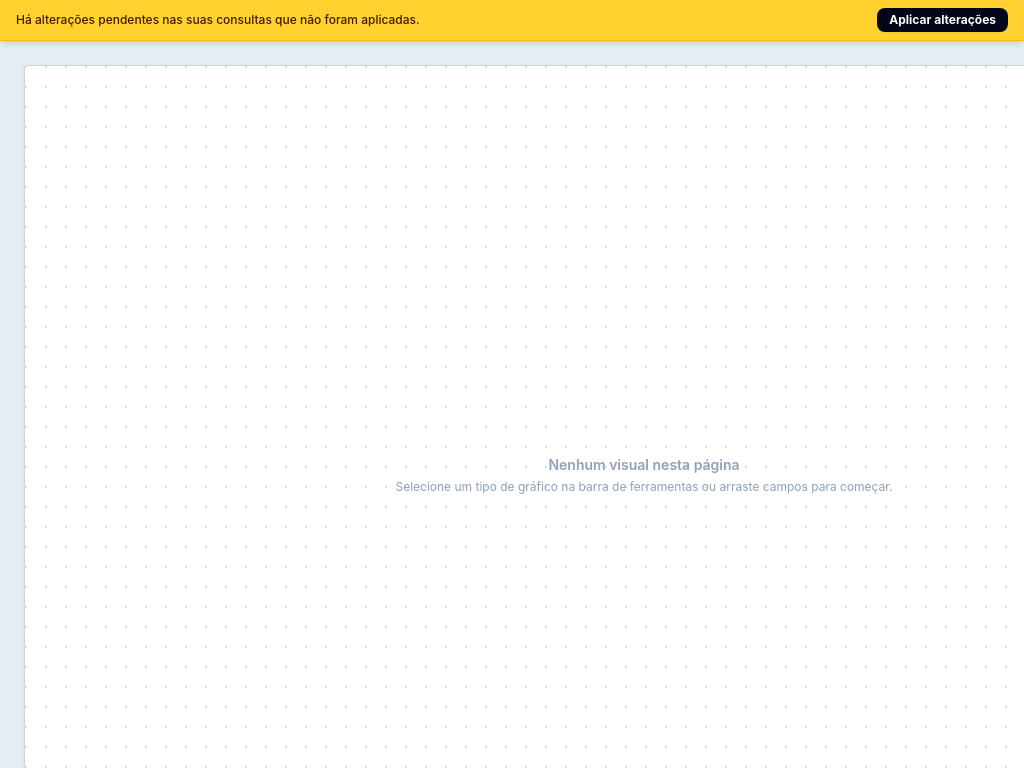
Scenario: <ReportView /> pending Power Query changes bar › clicking "Aplicar alterações" applies the dirty query and the bar disappears
What coordinates should you click on to do the following:
click the button with test id "apply-pending-changes-btn"
I would click on:
 (943, 20)
Its box is [877, 8, 1008, 32].
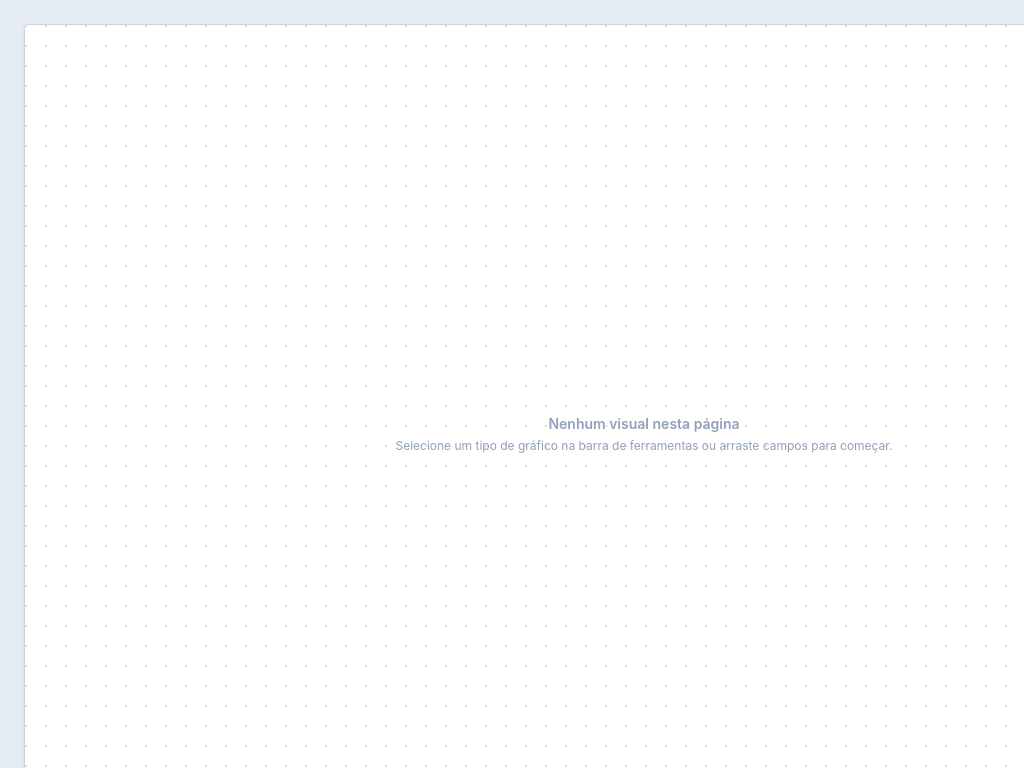
Expected: the element with test id "pending-query-changes-bar" is gone
